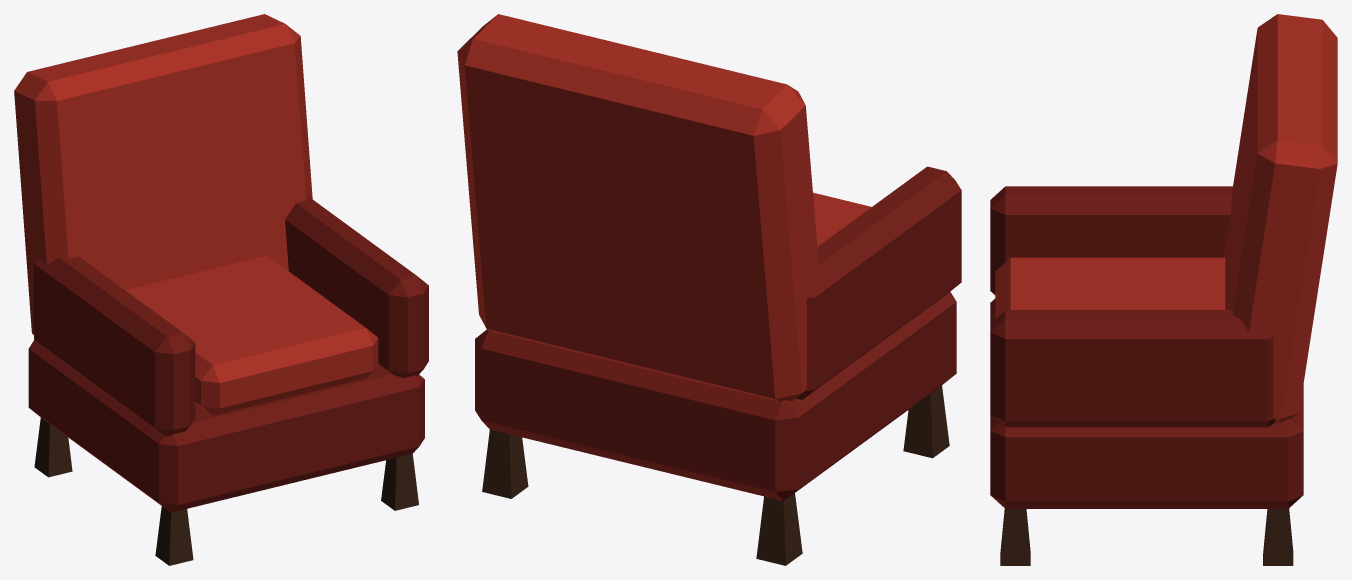
Rendered from armchair_red.glb.
3 renders of one model, left to right at view 1: azimuth 30°, elevation 25°; view 2: azimuth 150°, elevation 25°; view 3: azimuth 270°, elevation 25°, orthographic. The views are drawn at different scales.
Parts seen in each view (by area): view 1: armchair_red; view 2: armchair_red; view 3: armchair_red.
Boxes of the visible parts, left/top/right/bottom form: armchair_red: left=14, top=14, right=428, bottom=565; armchair_red: left=457, top=14, right=961, bottom=565; armchair_red: left=990, top=14, right=1337, bottom=565.
Size of the model in its own units: 0.68 by 0.9232 by 0.6875.
